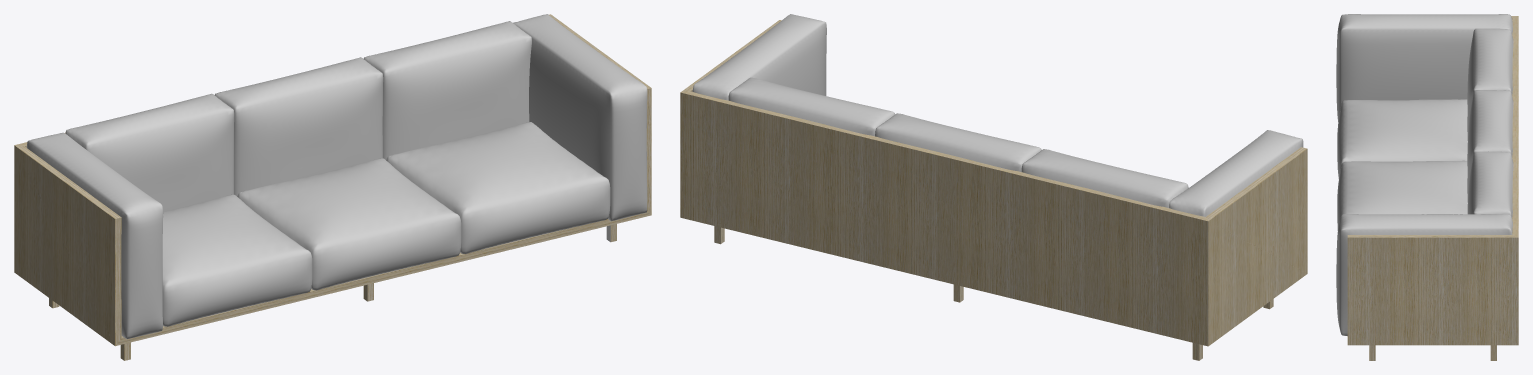
File: Sofa3.fbx
3 renders of one model, left to right at view 1: azimuth 30°, elevation 25°; view 2: azimuth 150°, elevation 25°; view 3: azimuth 270°, elevation 25°, orthographic. The views are drawn at different scales.
Parts seen in each view (by area): view 1: Material2.002, Material2.001, Material2; view 2: Material2.001, Material2.002, Material2; view 3: Material2.002, Material2.001, Material2.
Part boxes in pixels (x1,y1,x2,y2): Material2.002: (27, 14, 647, 339); Material2.001: (14, 14, 651, 360); Material2: (14, 14, 651, 345); Material2.001: (680, 20, 1307, 360); Material2.002: (692, 14, 1303, 216); Material2: (681, 91, 1207, 220); Material2.002: (1336, 14, 1513, 336); Material2.001: (1347, 16, 1518, 360); Material2: (1512, 16, 1518, 237).
Size of the model in its own units: 194 by 58.86 by 67.53.
